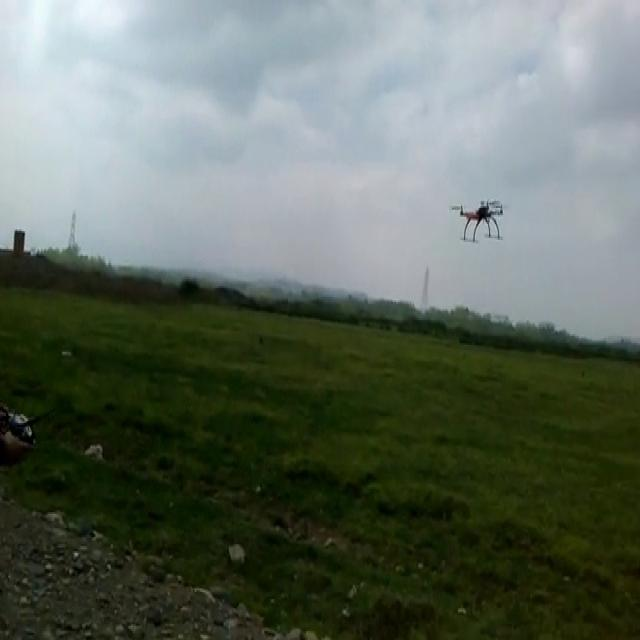drone: (448, 192, 507, 247)
